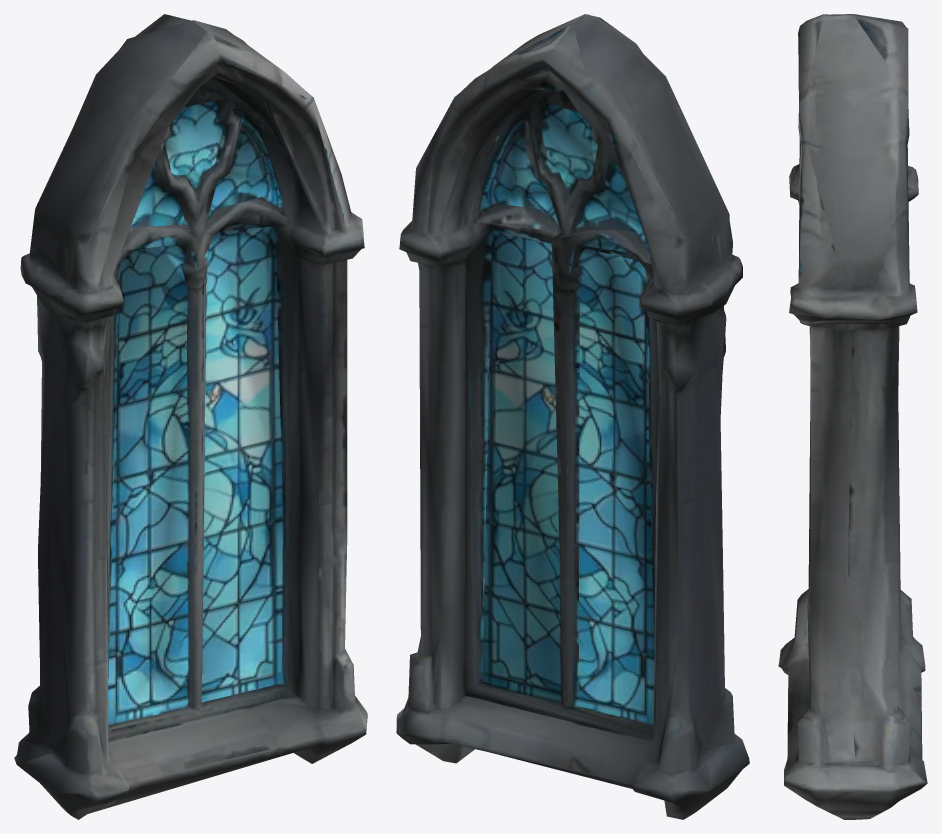
File: hwindow.glb
3 renders of one model, left to right at view 1: azimuth 30°, elevation 25°; view 2: azimuth 150°, elevation 25°; view 3: azimuth 270°, elevation 25°, orthographic. The views are drawn at different scales.
Parts seen in each view (by area): view 1: tripo_node_e44a41d6; view 2: tripo_node_e44a41d6; view 3: tripo_node_e44a41d6.
Part boxes in pixels (x1,y1,x2,y2): tripo_node_e44a41d6: (14, 14, 367, 819); tripo_node_e44a41d6: (396, 14, 749, 819); tripo_node_e44a41d6: (778, 14, 927, 819).
Size of the model in its own units: 43.09 by 99.89 by 18.1.
Materials: 1 (1 with a texture image).
